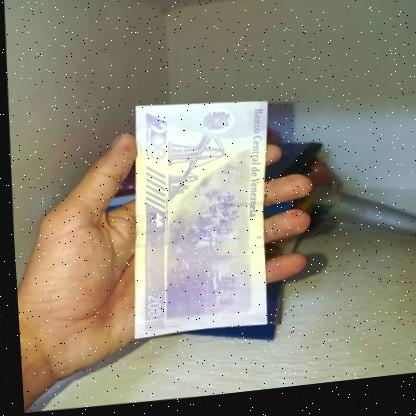vef_back: (119, 96, 277, 345)
